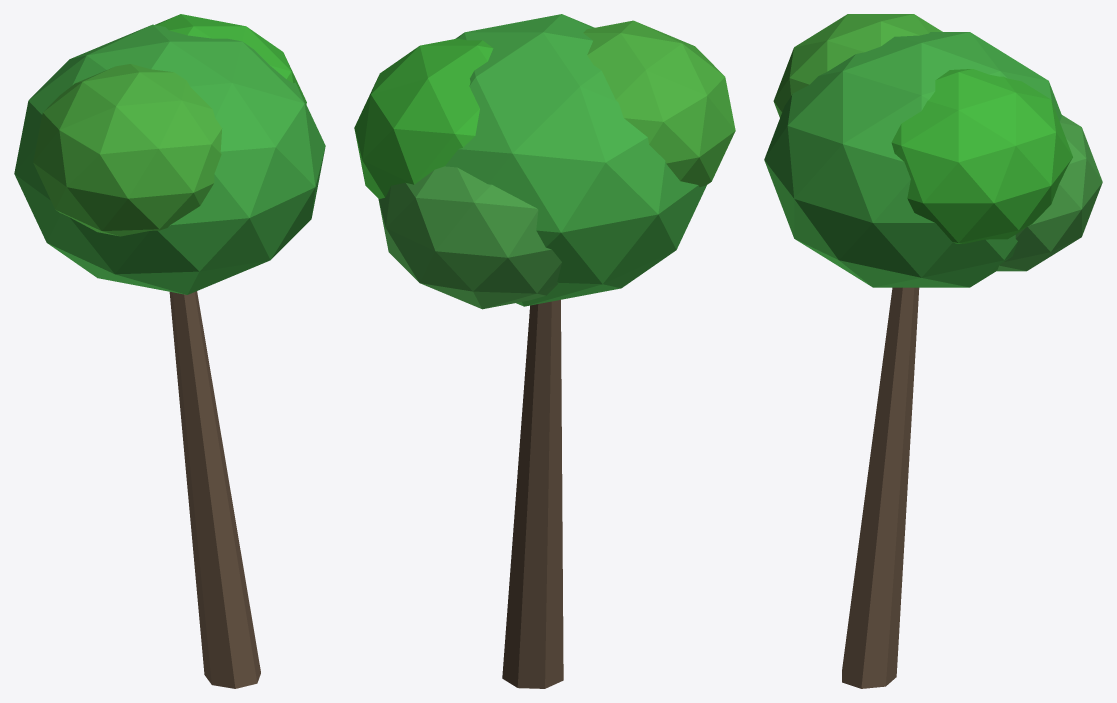
The model's file is tree_oak_3.glb.
The picture shows the model from 3 angles, left to right: view 1: azimuth 30°, elevation 25°; view 2: azimuth 150°, elevation 25°; view 3: azimuth 270°, elevation 25°; orthographic projection. The views are drawn at different scales.
Visible parts, largest first — view 1: Icosphere, Icosphere.002, Trunk, Icosphere.001; view 2: Icosphere, Trunk, Icosphere.003, Icosphere.002, Icosphere.001; view 3: Icosphere, Icosphere.001, Trunk, Icosphere.003, Icosphere.002.
Boxes of the visible parts, left/top/right/bottom form: Icosphere: left=14, top=24, right=325, bottom=294; Icosphere.002: left=33, top=64, right=222, bottom=236; Trunk: left=169, top=291, right=260, bottom=688; Icosphere.001: left=155, top=14, right=306, bottom=104; Icosphere: left=445, top=14, right=706, bottom=306; Trunk: left=502, top=300, right=563, bottom=688; Icosphere.003: left=378, top=166, right=561, bottom=309; Icosphere.002: left=583, top=20, right=735, bottom=186; Icosphere.001: left=354, top=38, right=493, bottom=198; Icosphere: left=764, top=32, right=1061, bottom=287; Icosphere.001: left=891, top=69, right=1072, bottom=243; Trunk: left=842, top=287, right=919, bottom=688; Icosphere.003: left=997, top=115, right=1102, bottom=271; Icosphere.002: left=773, top=14, right=942, bottom=117.
Size of the model in its own units: 3.15 by 6.74 by 3.35.
